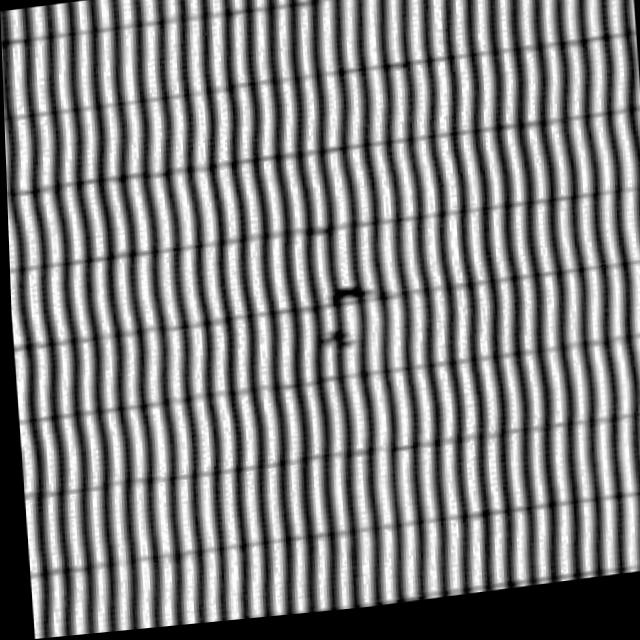Stitch: (295, 277, 402, 378)
